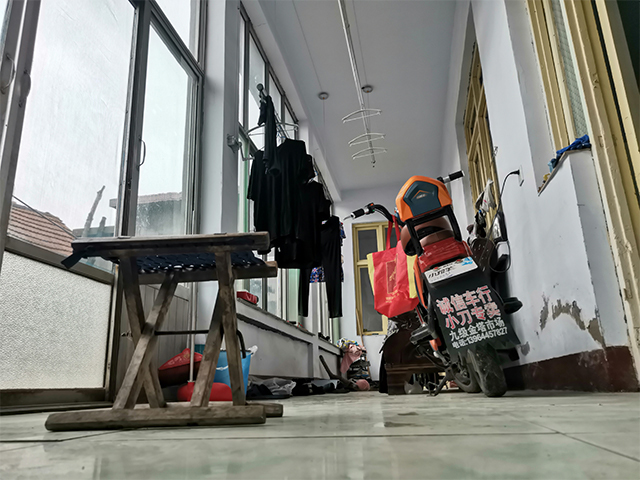slippers: (246, 383, 290, 401), (320, 382, 350, 395)
stool: (41, 230, 285, 434)
